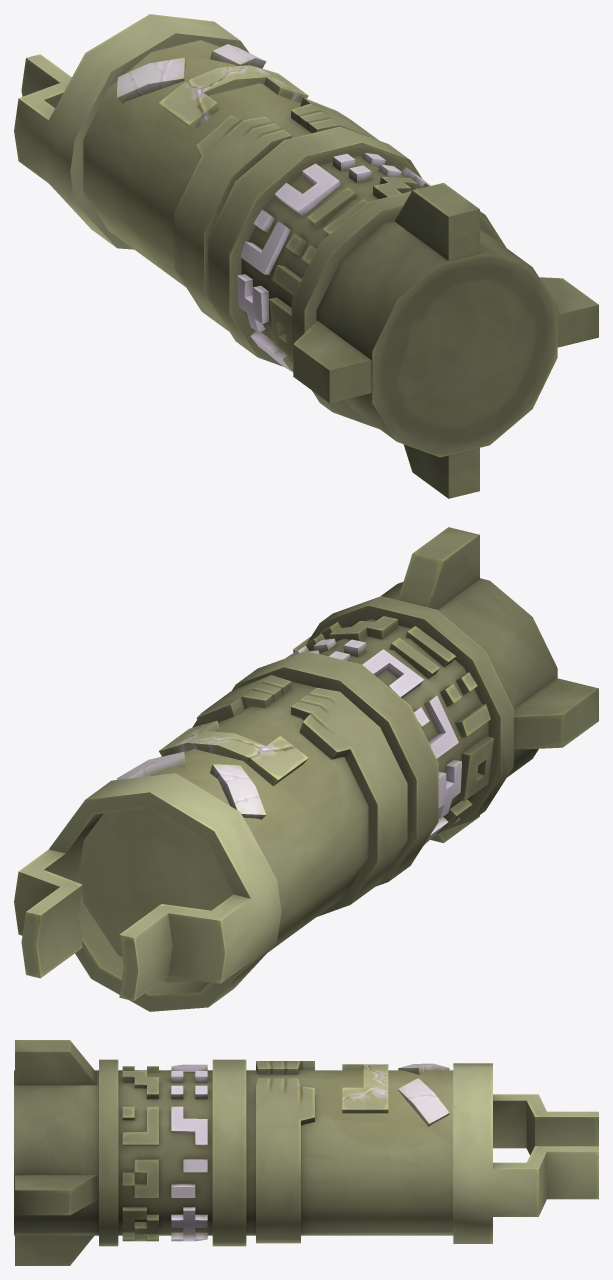
File: Totem_01.FBX
3 renders of one model, top to bottom at view 1: azimuth 30°, elevation 25°; view 2: azimuth 150°, elevation 25°; view 3: azimuth 270°, elevation 25°, orthographic. The views are drawn at different scales.
Visible parts, largest first — view 1: Totem_01; view 2: Totem_01; view 3: Totem_01.
Part boxes in pixels (x1,y1,x2,y2): Totem_01: [14, 14, 598, 498]; Totem_01: [14, 527, 598, 1011]; Totem_01: [14, 1040, 598, 1265].
Bounding box in the file's own units: 6.49 × 16.06 × 6.49.
